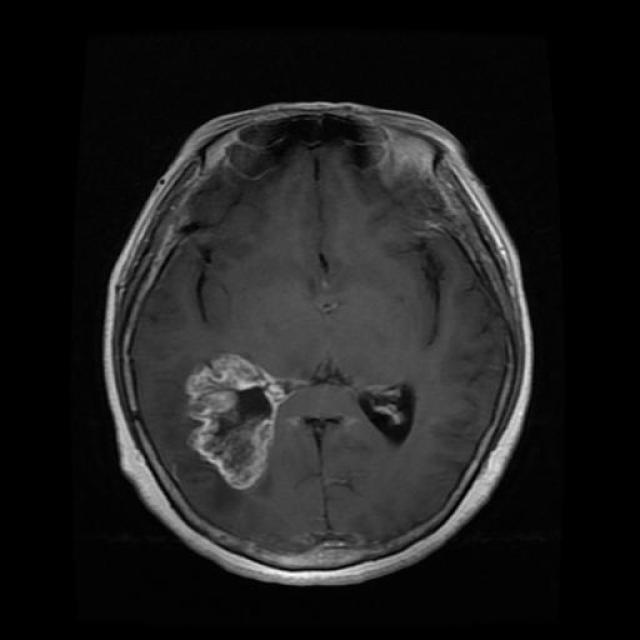glioma: (181, 348, 285, 492), (349, 374, 422, 447)
